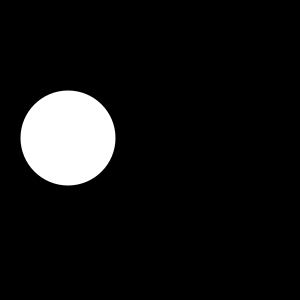rectangle: (20, 91, 116, 186)
